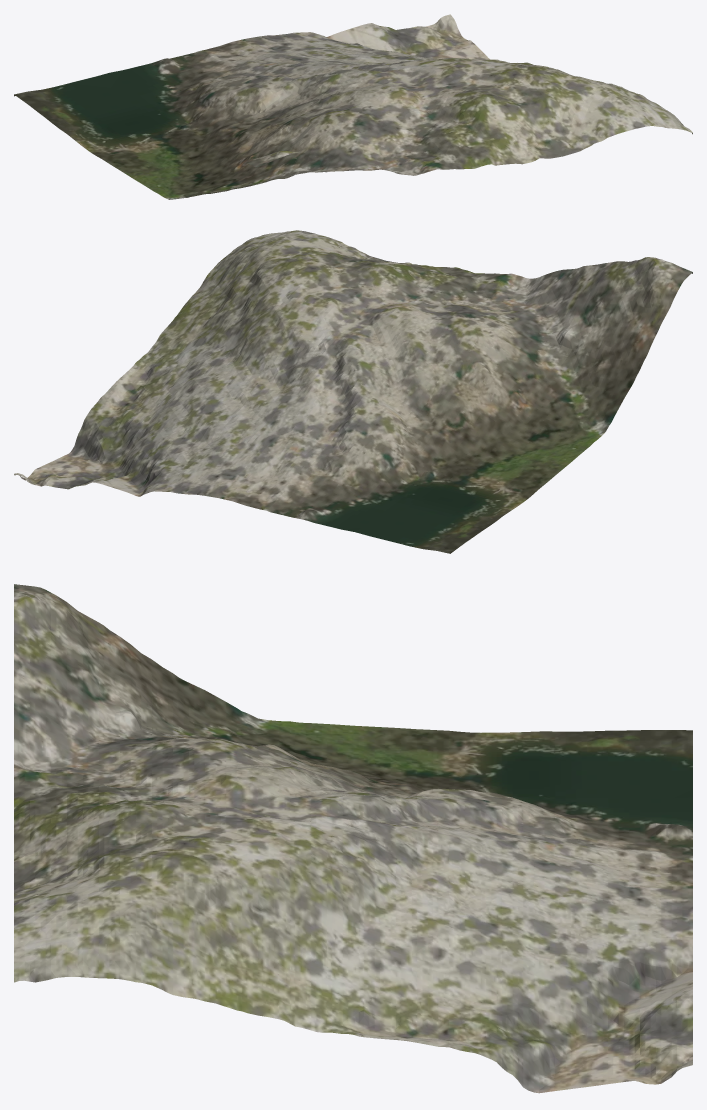
The picture shows the model from 3 angles, top to bottom: view 1: azimuth 30°, elevation 25°; view 2: azimuth 150°, elevation 25°; view 3: azimuth 270°, elevation 25°; orthographic projection. The views are drawn at different scales.
Bounding box in the file's own units: 250 × 86.63 × 241.
Materials: 1 (1 with a texture image).
